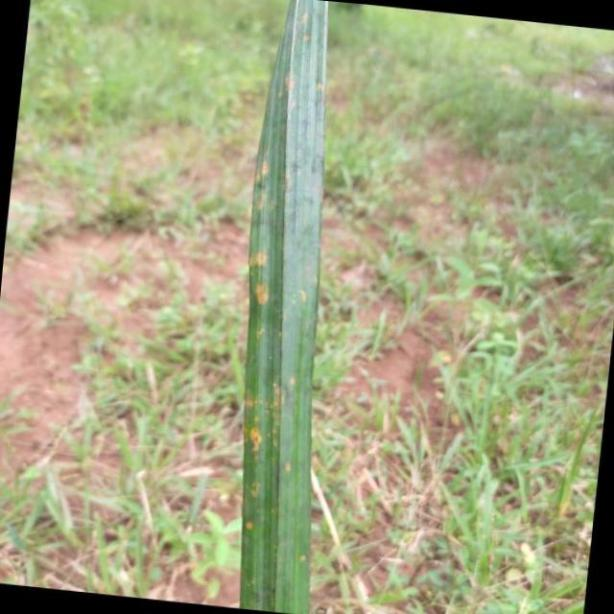Kalium: (236, 0, 328, 614)
